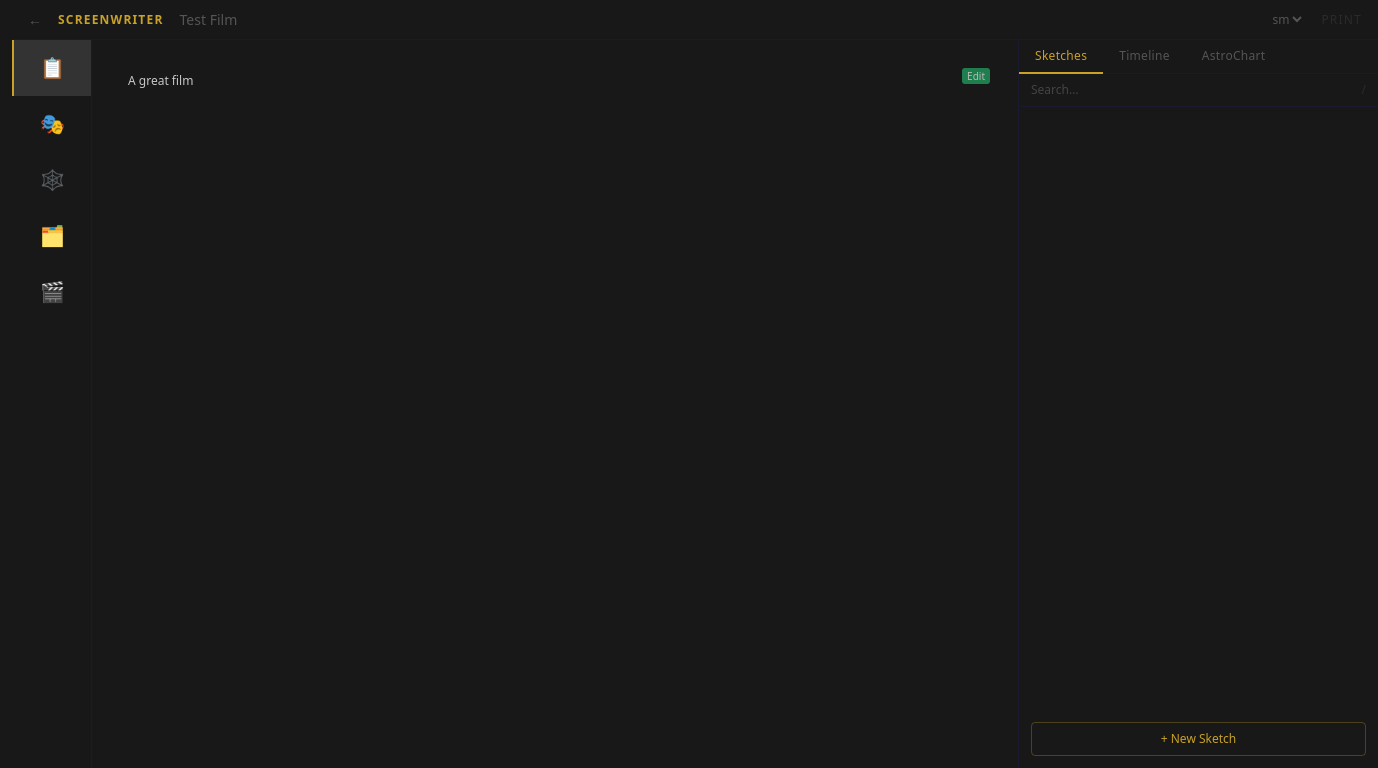
SceneEditor › switches to CharactersPanel when Characters icon is clicked
What coordinates should you click on to do the following:
click the button titled "Characters"
I would click on:
 (52, 124)
Its box is [12,96,91,152].
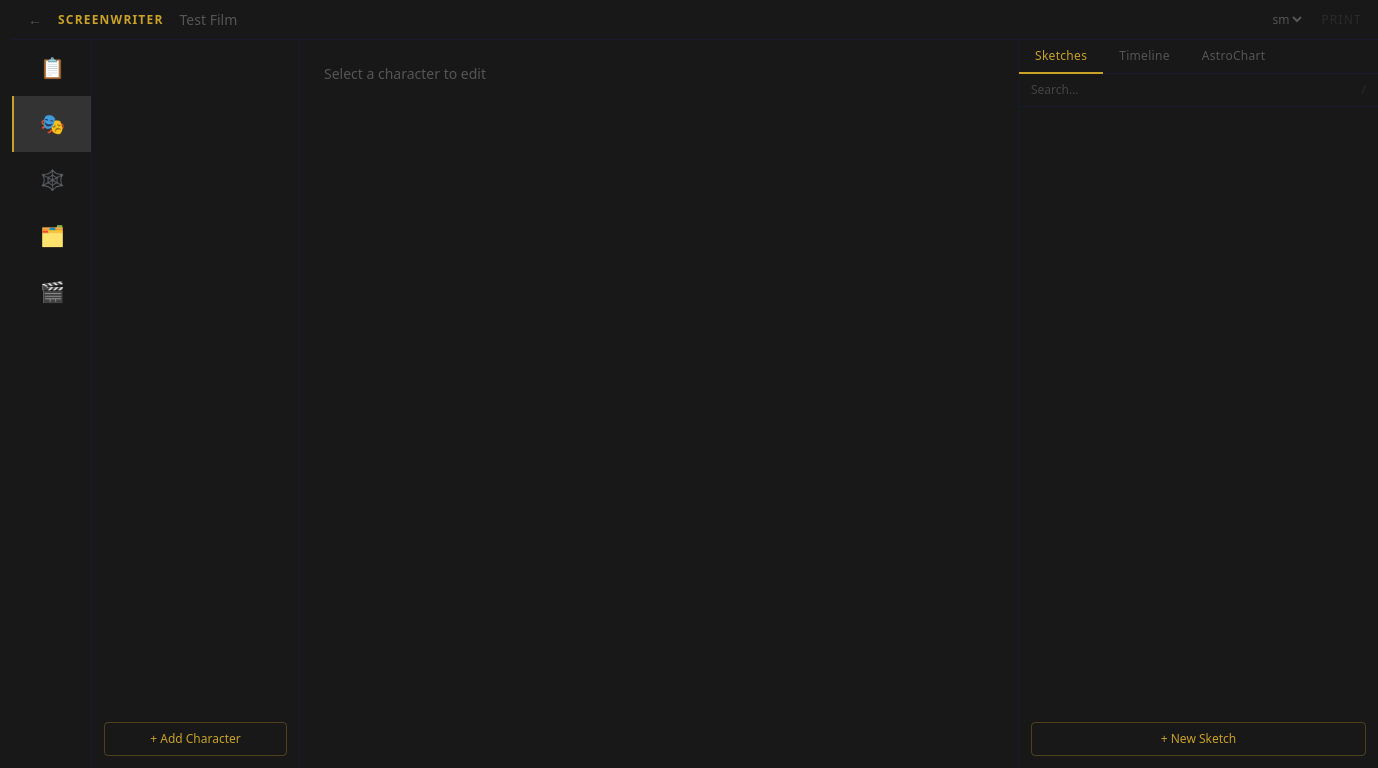
Check: the text "Select a character to edit" is shown, box [324,64,486,83]
